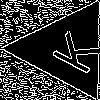K: (41, 24, 100, 76)
